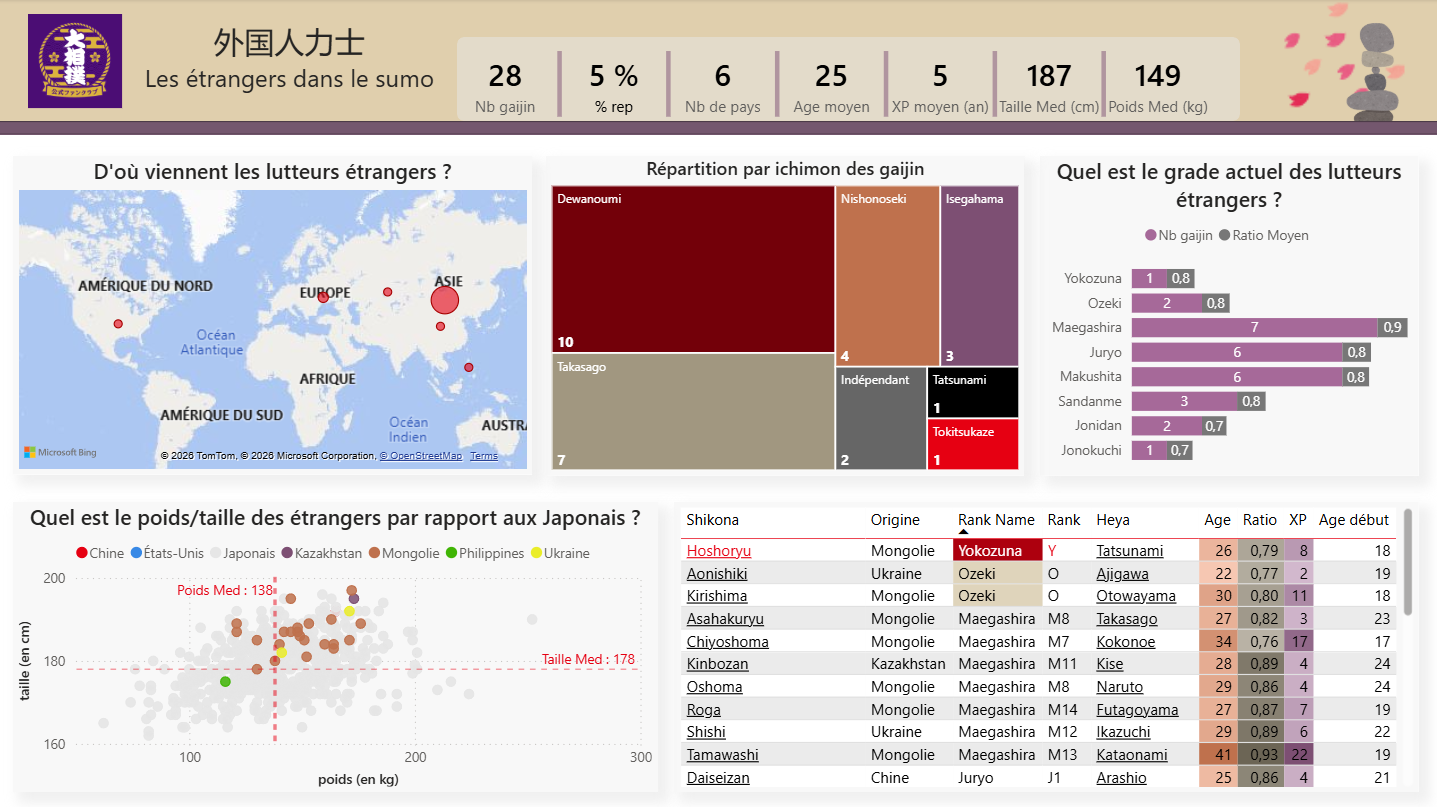

Layout of this report page (visuals, bound fields, positions):
{"tool":"powerbi","page":{"name":"Gaijin","canvas":[1280,720],"ordinal":1},"visuals":[{"type":"shape","box":[0,0,1280,109.4],"z":0,"group":"g1"},{"type":"image","box":[1096.6,0,183.4,108.9],"z":0,"group":"g2"},{"type":"image","box":[28.6,12.9,82.9,82.9],"z":0},{"type":"shape","box":[0,107.6,1280,12.1],"z":0,"group":"g3"},{"type":"group","id":"g1","title":"Groupe 1","box":[0,0,1280,108.9],"z":1000},{"type":"image","box":[28.6,13,82.9,83.7],"z":1000,"group":"g1"},{"type":"image","box":[1170.2,20.2,95.7,88.7],"z":1000,"group":"g2"},{"type":"group","id":"g2","title":"logoUp","box":[1096.6,0,183.4,108.9],"z":2000},{"type":"group","id":"g3","title":"séparationDB","box":[0,107.6,1280,12.1],"z":4000},{"type":"map","title":"D''où viennent les lutteurs étrangers ?","fields":{"X":["Dim_Region.longitude"],"Y":["Dim_Region.latitude"],"Size":["_Mesures.Nb gaijin"]},"box":[15,138.5,457.8,281.4],"z":5000},{"type":"barChart","title":"Quel est le grade actuel des lutteurs étrangers ?","fields":{"Category":["Dim_Rank.Rank Name","Dim_Rank.DivisionName","Dim_Rank.SpecialRankName"],"Y":["_Mesures.Nb gaijin","_Mesures.Ratio Moyen"]},"box":[921.2,138.1,333.6,282.2],"z":6000},{"type":"scatterChart","title":"Quel est le poids/taille des étrangers par rapport aux Japonais ?","fields":{"Series":["Fact_Rikishi.Groupe"],"X":["Fact_Rikishi.weight"],"Y":["Fact_Rikishi.height"]},"box":[14.8,443.8,568.5,256.3],"z":7000},{"type":"tableEx","fields":{"Values":["Fact_Rikishi.shikonaEn","Dim_Region.pays","Dim_Rank.Rank Name","Dim_Rank.Rank","Dim_Heya.Heya","_Mesures.Age moyen","_Mesures.ratio","_Mesures.XP moyen Gaijin","_Mesures.Age Debut"]},"box":[598.1,443.8,656.6,256.3],"z":8000},{"type":"shape","box":[406.7,33.5,690.7,74.1],"z":9000},{"type":"cardVisual","fields":{"Data":["_Mesures.Nb gaijin","_Mesures.% gaijin","_Mesures.Nb de pays","_Mesures.Age moyen","_Mesures.XP moyen Gaijin","_Mesures.Taille Med Gaijin","_Mesures.Poids Med Gaijin"]},"box":[388.2,30.6,699.8,88.9],"z":10000},{"type":"textbox","box":[111.2,13.2,295.5,82.9],"z":11000},{"type":"treemap","title":"Répartition par ichimon des gaijin","fields":{"Values":["_Mesures.Nb gaijin"],"Group":["Dim_Heya.HeyaIchimon"]},"box":[484.8,138.1,422.3,282.2],"z":12000}]}

Visuals, with their boxes in screenshot pixels (x1, y1, x2, y2), scaled from the page's 1280x720 canvas onto the 1437x807 screenshot:
shape: 0/0/1436/123
image: 1231/0/1436/122
image: 32/14/125/107
shape: 0/121/1436/134
"Groupe 1" group: 0/0/1436/122
image: 32/15/125/108
image: 1314/23/1421/122
"logoUp" group: 1231/0/1436/122
"séparationDB" group: 0/121/1436/134
"D''où viennent les lutteurs étrangers ?" map: 17/155/531/471
"Quel est le grade actuel des lutteurs étrangers ?" barChart: 1034/155/1409/471
"Quel est le poids/taille des étrangers par rapport aux Japonais ?" scatterChart: 17/497/655/785
tableEx - Fact_Rikishi.shikonaEn x Dim_Region.pays: 671/497/1409/785
shape: 457/38/1232/121
cardVisual - _Mesures.Nb gaijin x _Mesures.% gaijin: 436/34/1221/134
textbox: 125/15/457/108
"Répartition par ichimon des gaijin" treemap: 544/155/1018/471
